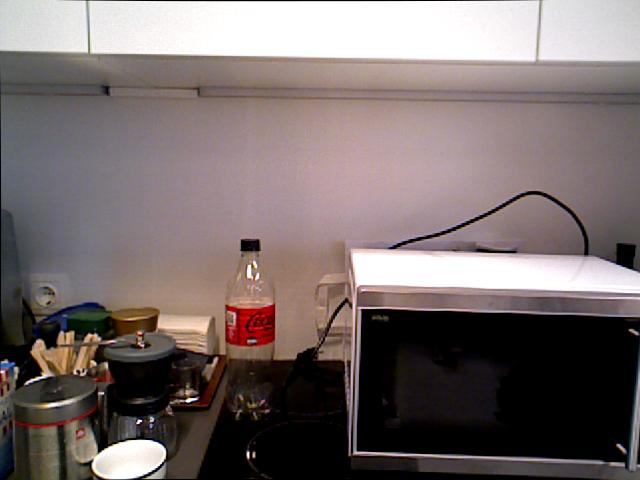bench: (224, 237, 276, 416)
handbag: (88, 441, 165, 480)
knife: (344, 246, 639, 462)
